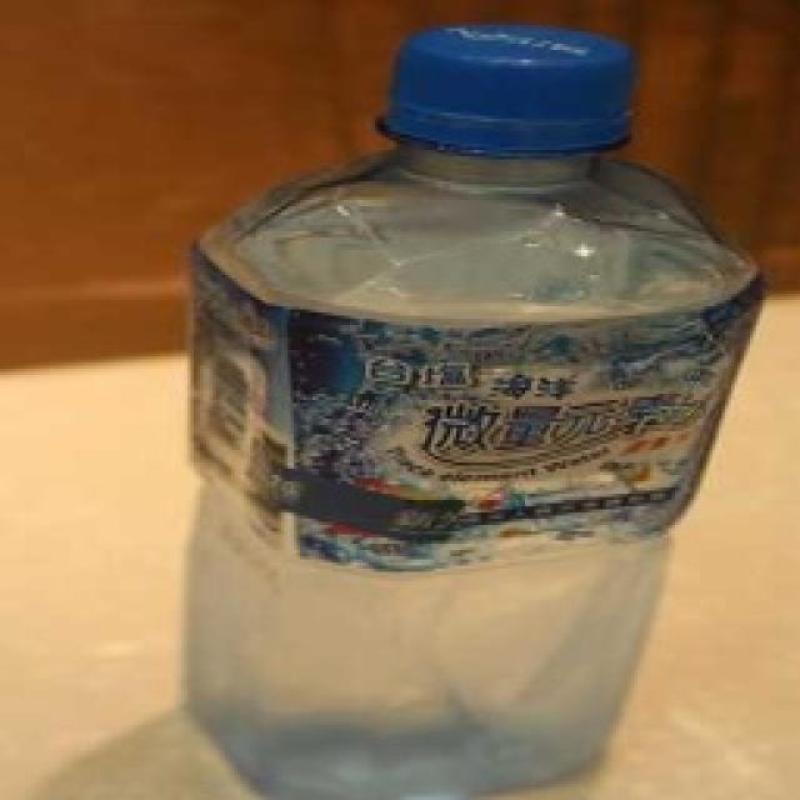botella: (174, 24, 764, 798)
